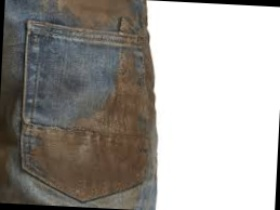earth: (38, 126, 141, 187), (112, 69, 139, 132), (69, 0, 129, 21), (94, 108, 112, 130)
